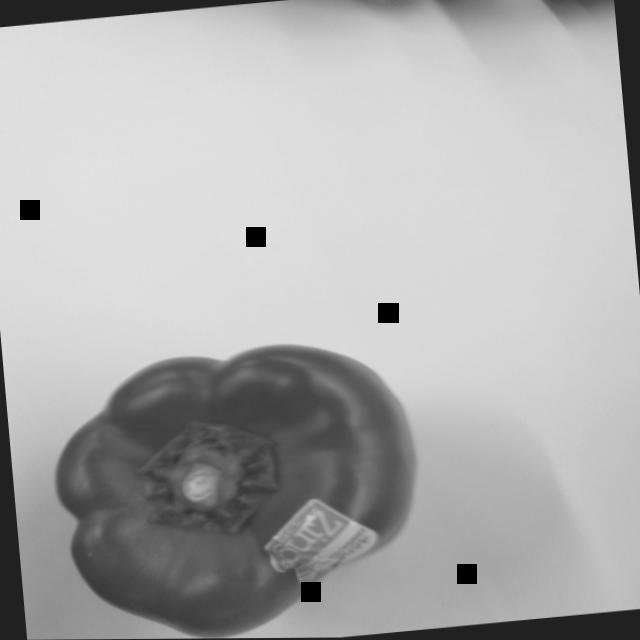paprika: (28, 327, 437, 640)
